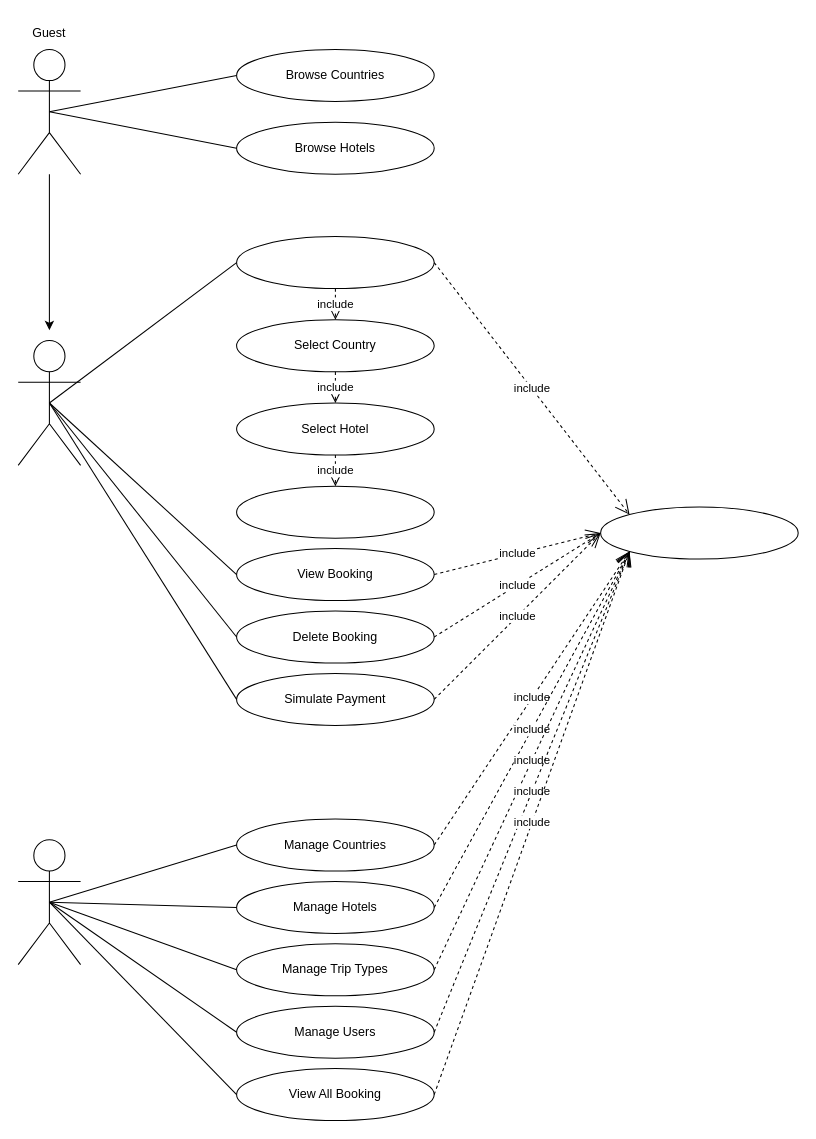
Image size: 816x1139. Some labels were removed from this diagram. The shapes that lost their labels are listed below. From the top down, each one's box as (x1, y1, x2, y2) in pixels, then its label:
(236, 236, 434, 289): Generate Trip
(17, 340, 81, 465): Traveler
(236, 485, 434, 538): Calculate Badget
(600, 506, 798, 559): Authentication
(17, 839, 81, 965): Admin
